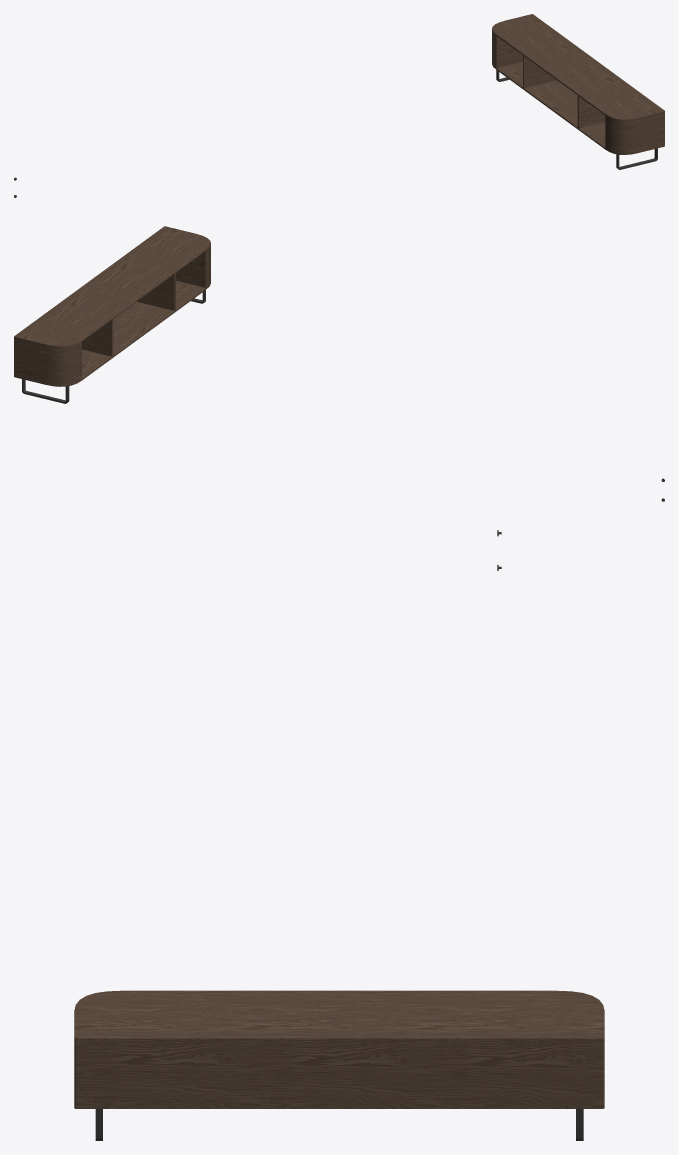
File: NST-001.glb
3 renders of one model, top to bottom at view 1: azimuth 30°, elevation 25°; view 2: azimuth 150°, elevation 25°; view 3: azimuth 270°, elevation 25°, orthographic. The views are drawn at different scales.
Visible parts, largest first — view 1: sidetable; view 2: sidetable; view 3: sidetable.
Part boxes in pixels (x1,y1,x2,y2): sidetable: [492, 14, 664, 154]; sidetable: [14, 226, 210, 386]; sidetable: [74, 990, 604, 1108].
Bounding box in the file's own units: 4.51 × 0.4224 × 1.9.
3 materials, 1 textured.
